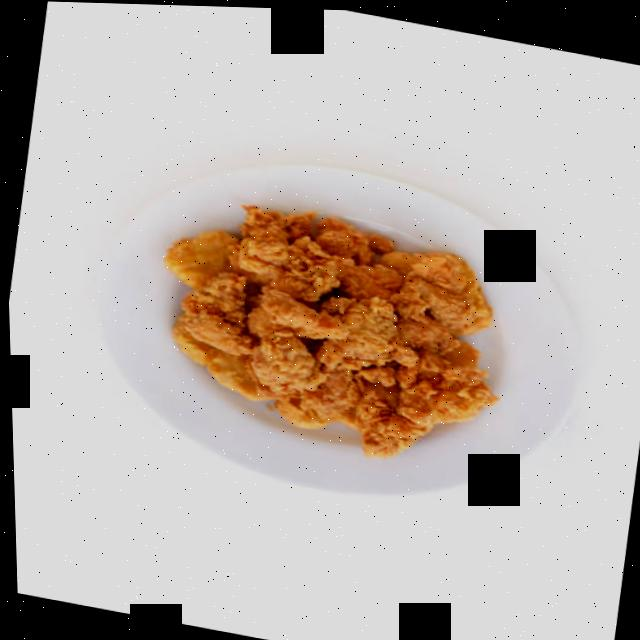Frango: (130, 182, 512, 469)
